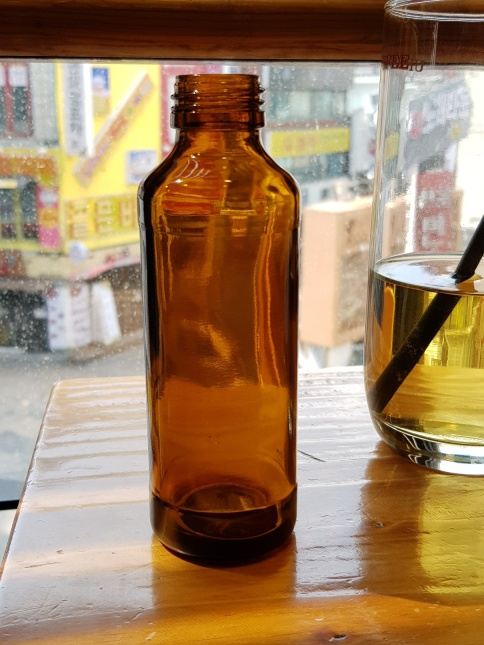Glass: (134, 71, 303, 566)
